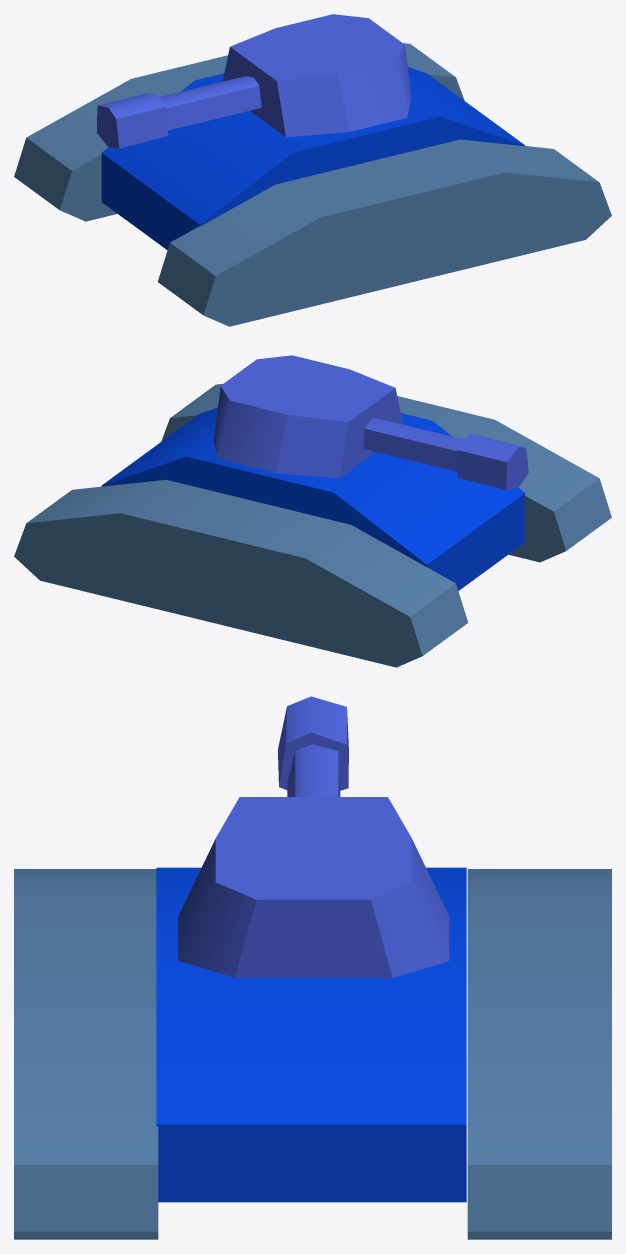
The model's file is Tank.fbx.
3 renders of one model, top to bottom at view 1: azimuth 30°, elevation 25°; view 2: azimuth 150°, elevation 25°; view 3: azimuth 270°, elevation 25°, orthographic. The views are drawn at different scales.
Parts seen in each view (by area): view 1: pCube2, pCube1, pCube4, pCube3; view 2: pCube3, pCube1, pCube4, pCube2; view 3: pCube1, pCube3, pCube2, pCube4.
Part boxes in pixels (x1,y1,x2,y2): pCube2: (157, 139, 611, 326); pCube1: (101, 67, 525, 249); pCube4: (96, 14, 411, 148); pCube3: (14, 43, 464, 221); pCube3: (14, 479, 468, 667); pCube1: (101, 407, 525, 590); pCube4: (213, 355, 528, 490); pCube2: (161, 384, 611, 562); pCube1: (156, 867, 466, 1202); pCube3: (467, 869, 611, 1239); pCube2: (14, 869, 158, 1239); pCube4: (178, 696, 449, 977).
Size of the model in its own units: 8.32 by 3.19 by 6.66.
